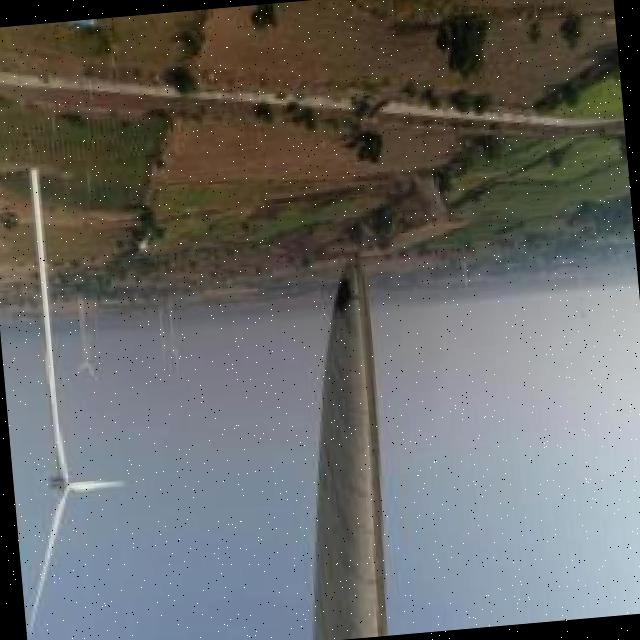Dirt: (315, 251, 391, 640)
Oil LEAKAGE: (336, 274, 355, 310)
